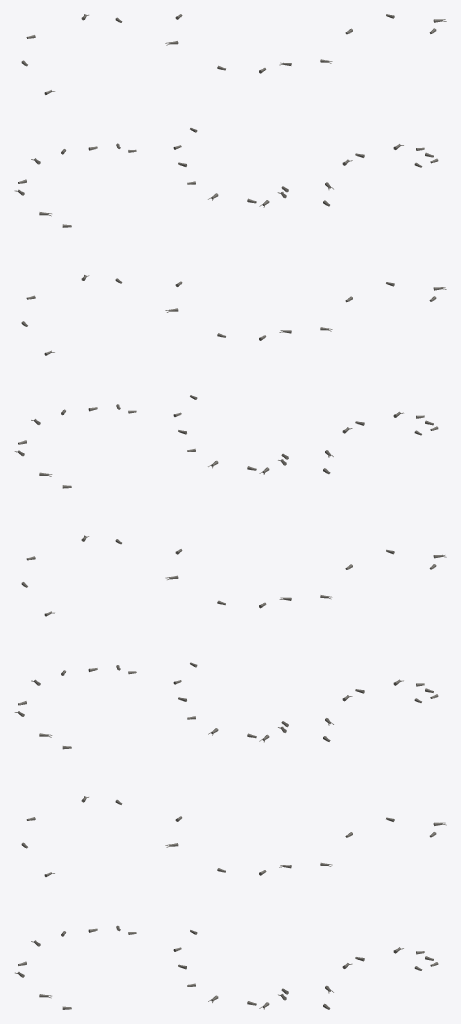
Rendered from Circle3Folk2.obj.
3 renders of one model, left to right at view 1: azimuth 30°, elevation 25°; view 2: azimuth 150°, elevation 25°; view 3: azimuth 330°, elevation 25°, orthographic. The views are drawn at different scales.
Parts seen in each view (by area): view 1: Circle3Folk2; view 2: Circle3Folk2; view 3: Circle3Folk2.
Part boxes in pixels (x1,y1,x2,y2): Circle3Folk2: [14, 14, 136, 1009]; Circle3Folk2: [165, 14, 291, 1009]; Circle3Folk2: [320, 14, 446, 1009].
Bounding box in the file's own units: 27.29 × 256 × 26.9.
Materials: 1 (1 with a texture image).
